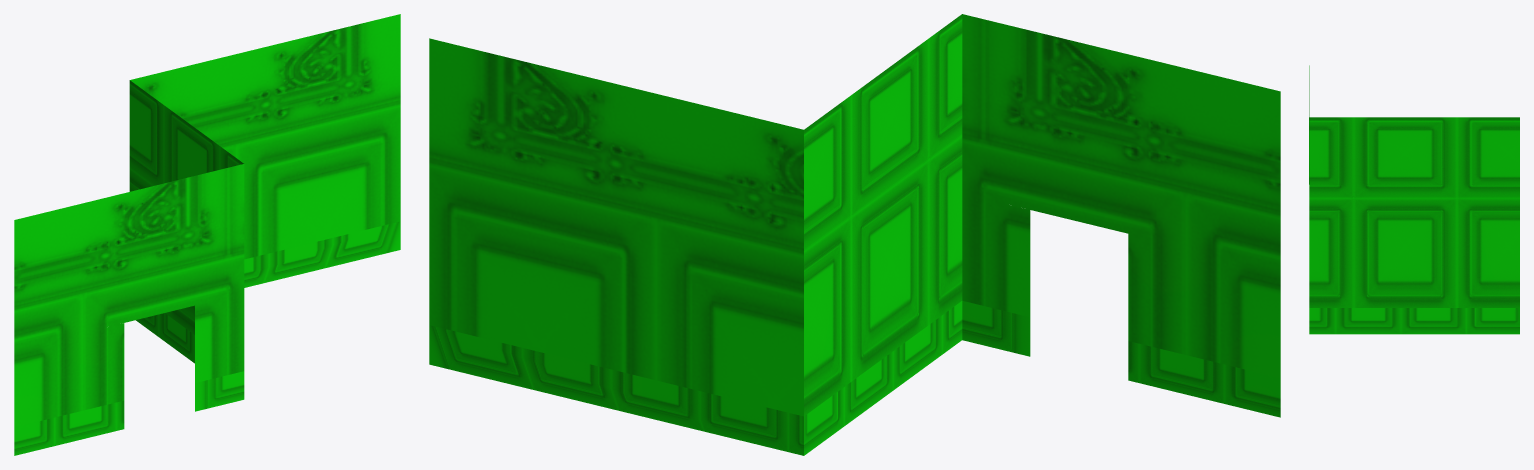
3 views of the same model, side by side, from view 1: azimuth 30°, elevation 25°; view 2: azimuth 150°, elevation 25°; view 3: azimuth 270°, elevation 25° (orthographic). The views are drawn at different scales.
Visible parts, largest first — view 1: 복도벽 8; view 2: 복도벽 8; view 3: 복도벽 8.
Boxes of the visible parts, left/top/right/bottom form: 복도벽 8: left=14, top=14, right=400, bottom=455; 복도벽 8: left=429, top=14, right=1280, bottom=455; 복도벽 8: left=1309, top=65, right=1519, bottom=334.
Size of the model in its own units: 440 by 198 by 174.
